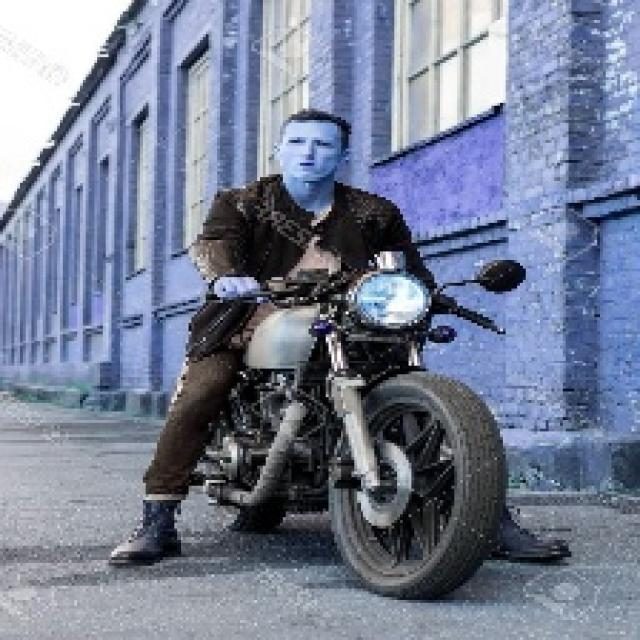Motorcycle: (206, 265, 518, 607)
